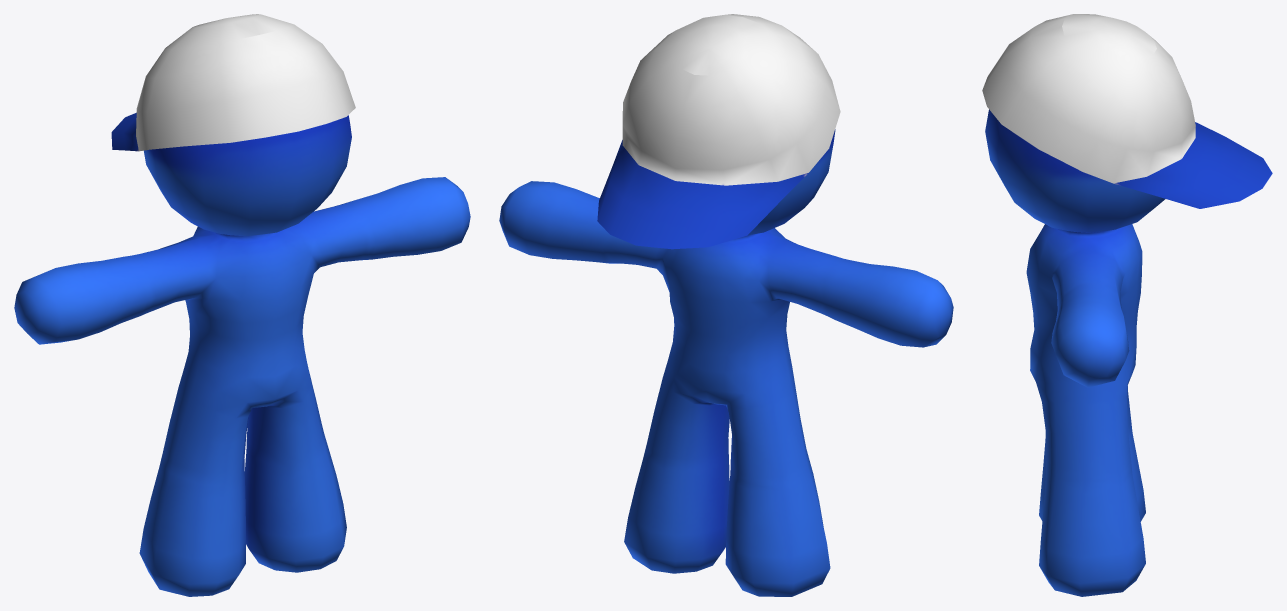
Rendered from Model_Stickman_DarkBlue.fbx.
The picture shows the model from 3 angles, left to right: view 1: azimuth 30°, elevation 25°; view 2: azimuth 150°, elevation 25°; view 3: azimuth 270°, elevation 25°; orthographic projection. The views are drawn at different scales.
Parts seen in each view (by area): view 1: Model_Stickman_DarkBlue; view 2: Model_Stickman_DarkBlue; view 3: Model_Stickman_DarkBlue.
Part boxes in pixels (x1,y1,x2,y2): Model_Stickman_DarkBlue: [14, 14, 470, 596]; Model_Stickman_DarkBlue: [499, 14, 953, 596]; Model_Stickman_DarkBlue: [982, 14, 1272, 596].
Bounding box in the file's own units: 218 × 258 × 127.
